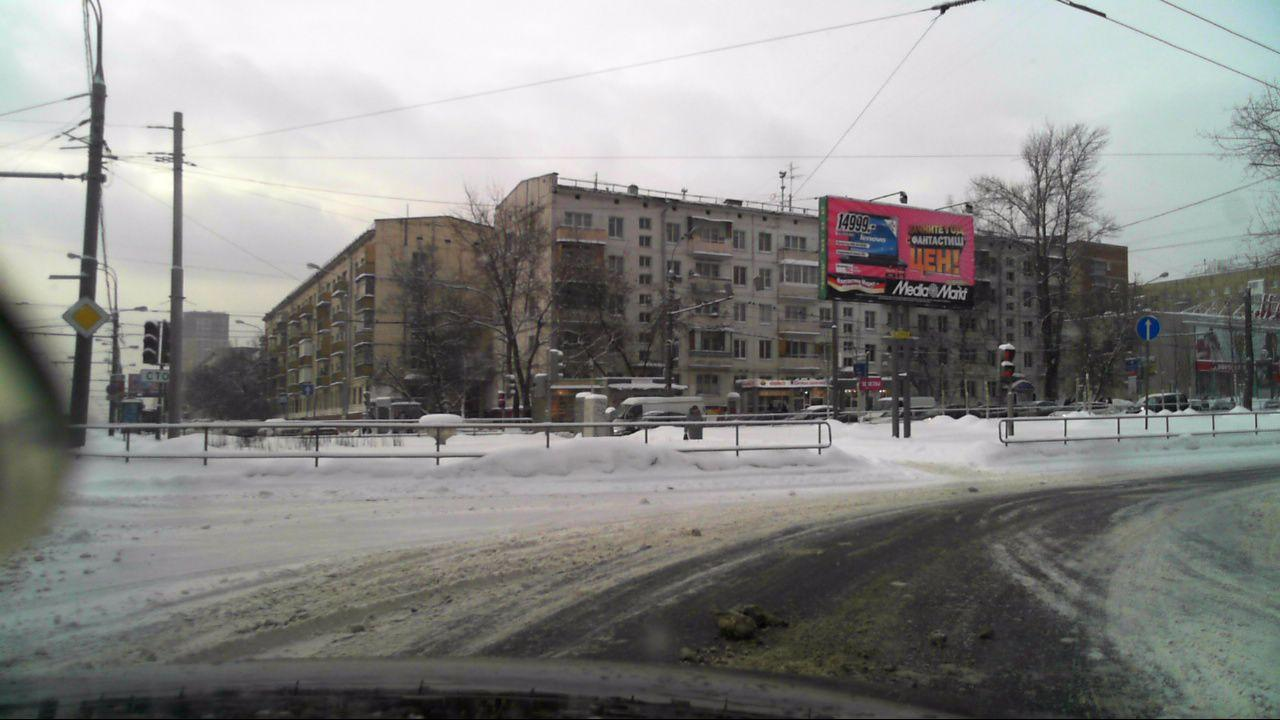obstructed_road_sign: (137, 368, 172, 386)
off traffic light: (141, 320, 161, 365)
road_sign: (59, 295, 112, 340), (1135, 315, 1161, 342)
traffic light: (999, 341, 1018, 384)
